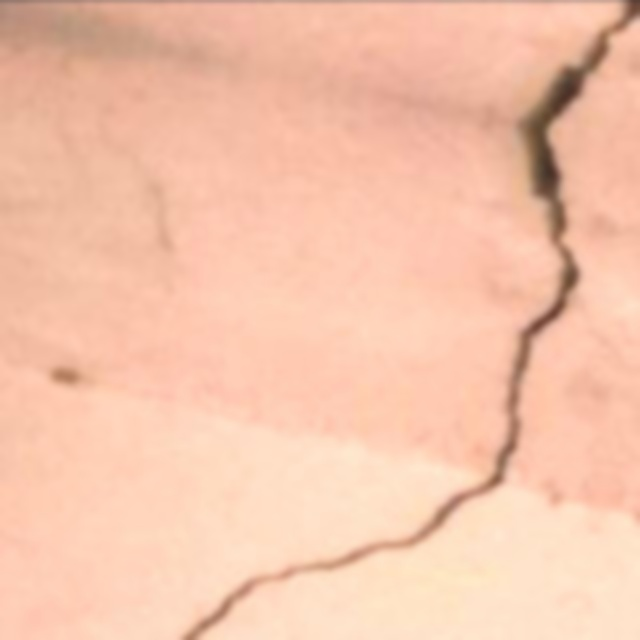SurfaceCrack: (170, 0, 624, 628)
